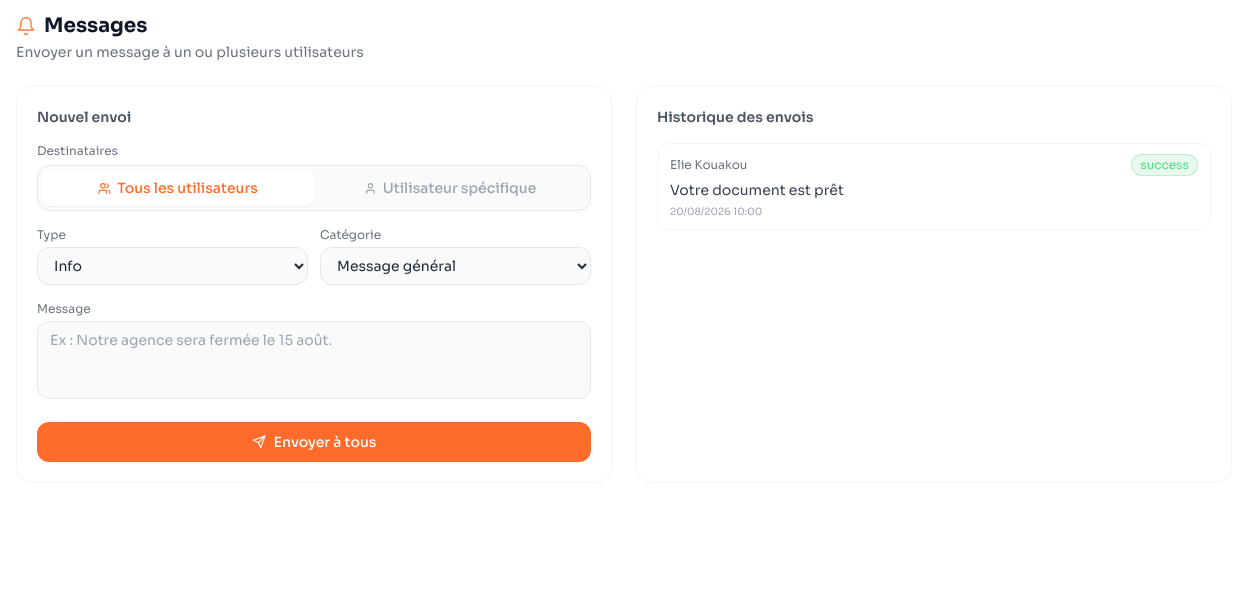
AdminMessagesPage › exige un destinataire pour un message individuel
Click the button "Utilisateur spécifique": (450, 188) [314, 170, 586, 206]
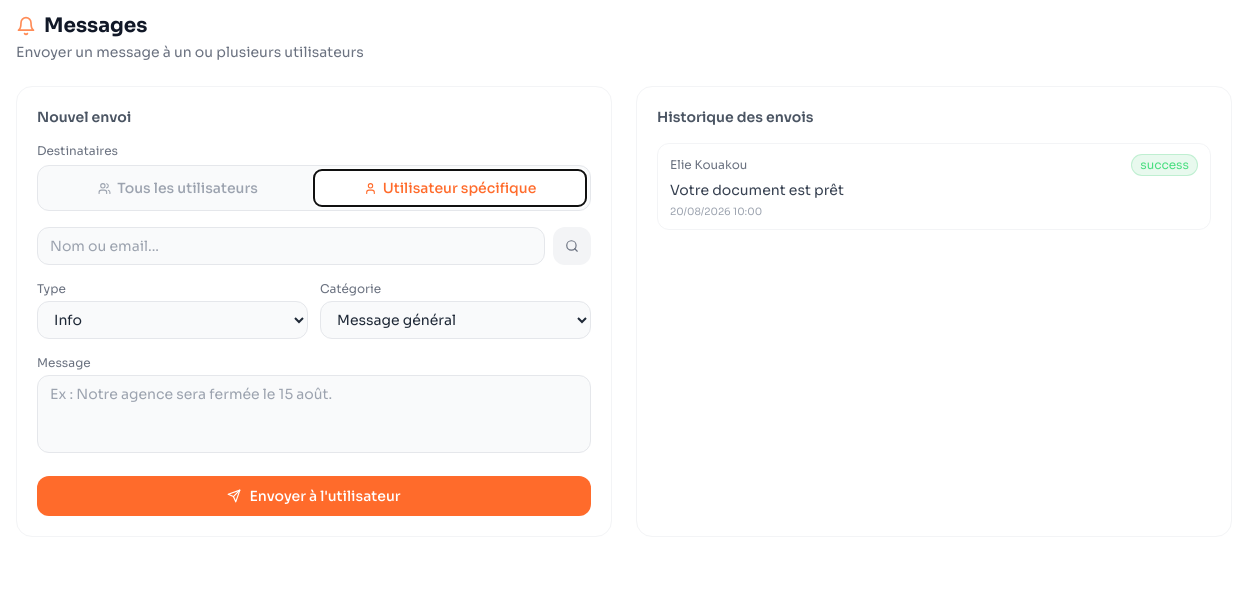
In the text box with placeholder "Ex : Notre agence sera fermée le 15 août.": (314, 414) [37, 375, 591, 453], type "Bonjour Elie"
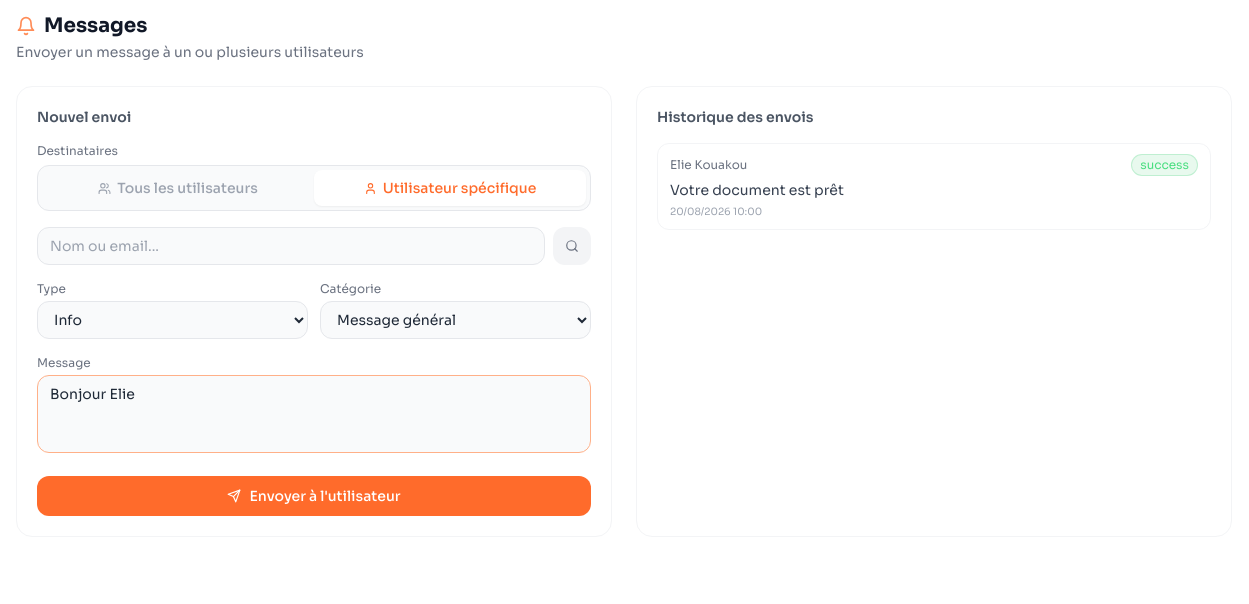
Click the button "Envoyer à l'utilisateur": (314, 496) [37, 476, 591, 516]
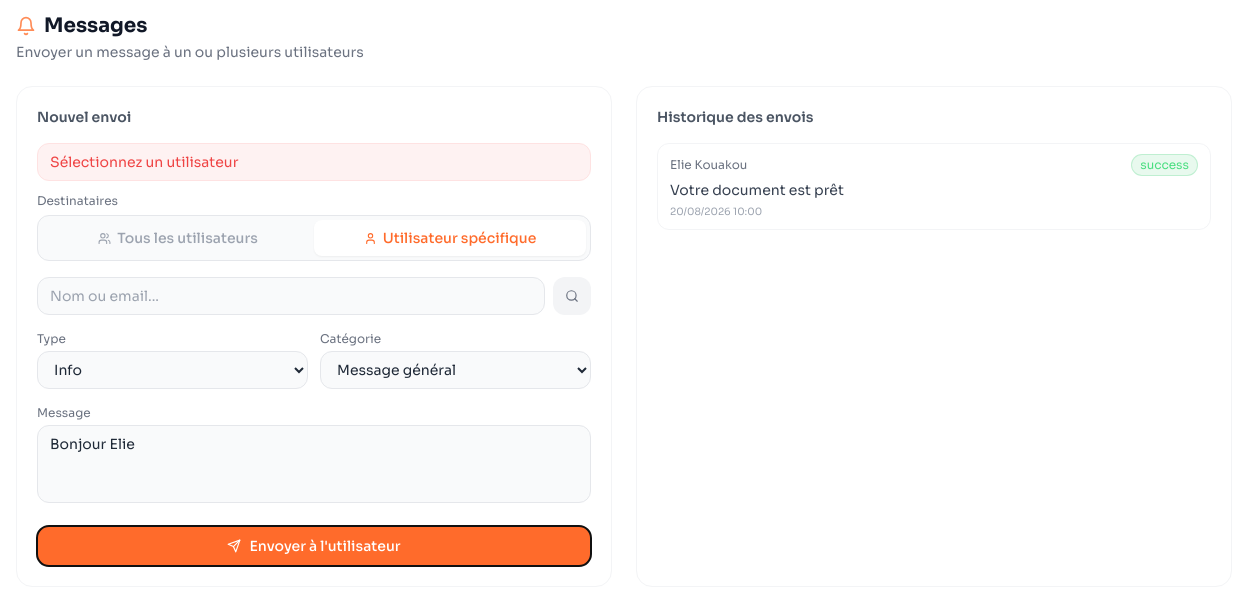
Now the text "Sélectionnez un utilisateur" is shown, box [37, 143, 591, 181]
